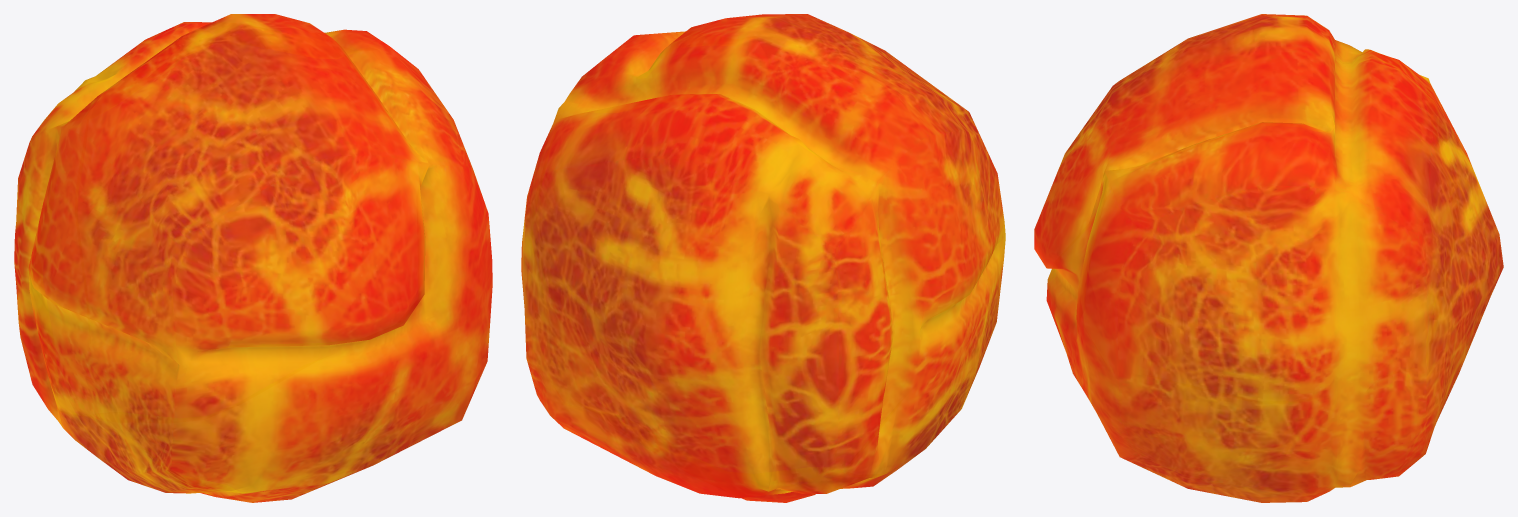
Rendered from enemy_plasma_ball.glb.
3 renders of one model, left to right at view 1: azimuth 30°, elevation 25°; view 2: azimuth 150°, elevation 25°; view 3: azimuth 270°, elevation 25°, orthographic. The views are drawn at different scales.
Visible parts, largest first — view 1: Bolita fuego_Material #25_0; view 2: Bolita fuego_Material #25_0; view 3: Bolita fuego_Material #25_0.
Boxes of the visible parts, bbox=[...] form: Bolita fuego_Material #25_0: bbox=[14, 14, 492, 502]; Bolita fuego_Material #25_0: bbox=[521, 14, 1005, 502]; Bolita fuego_Material #25_0: bbox=[1034, 14, 1503, 502].
Bounding box in the file's own units: 51.22 × 54.96 × 51.17.
Materials: 1 (1 with a texture image).
